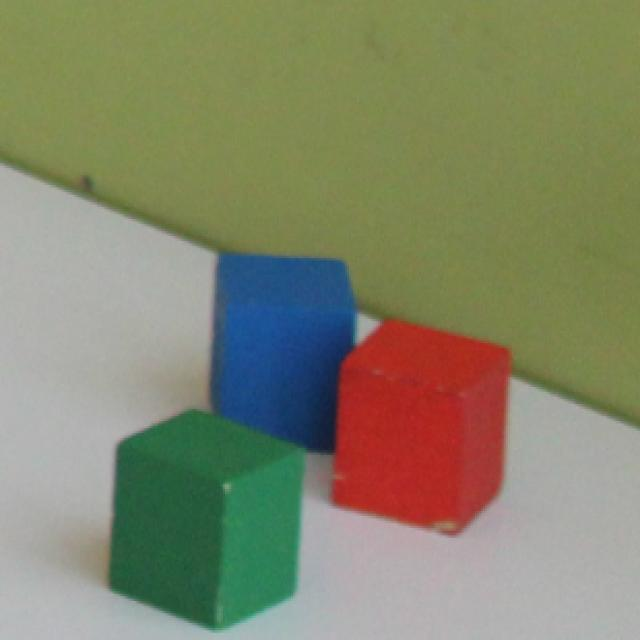bluecube: (219, 254, 359, 455)
green cube: (102, 399, 299, 625)
red cube: (333, 315, 516, 535)
